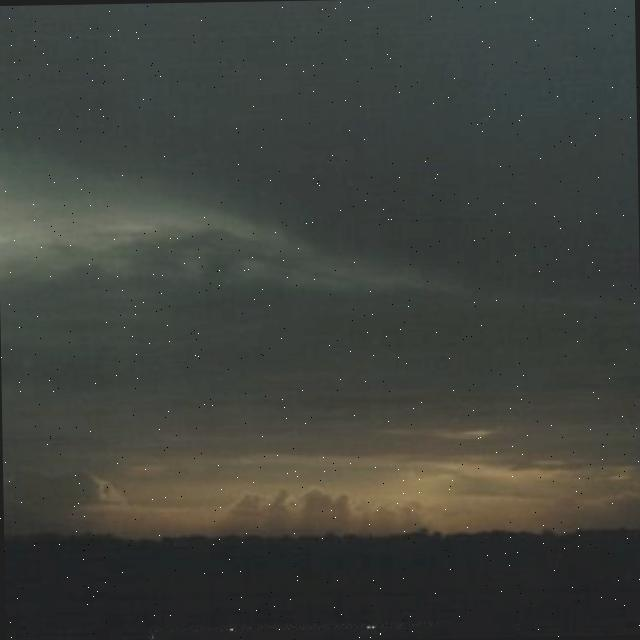As: (1, 120, 640, 544)
